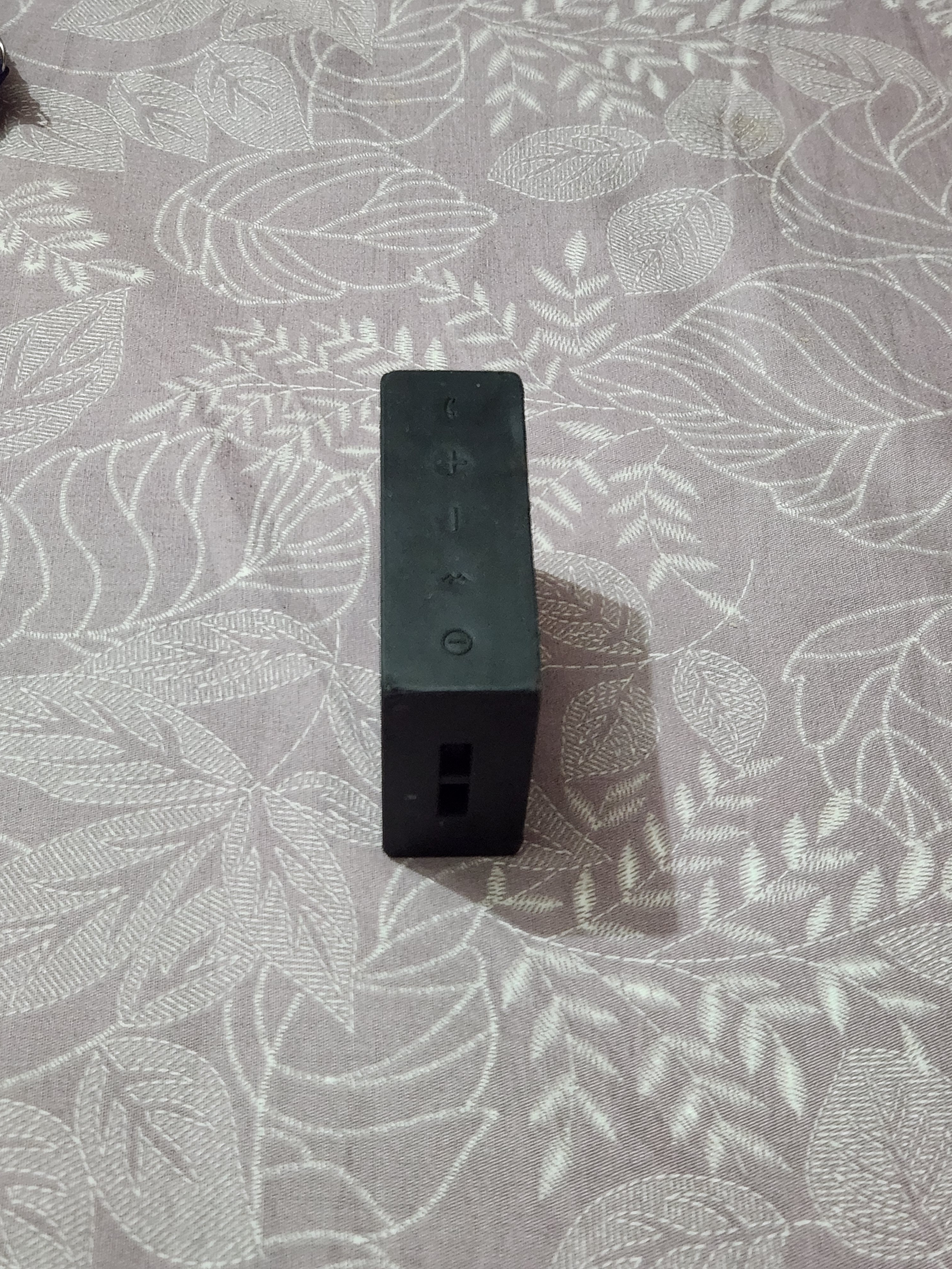speaker: (374, 359, 546, 861)
